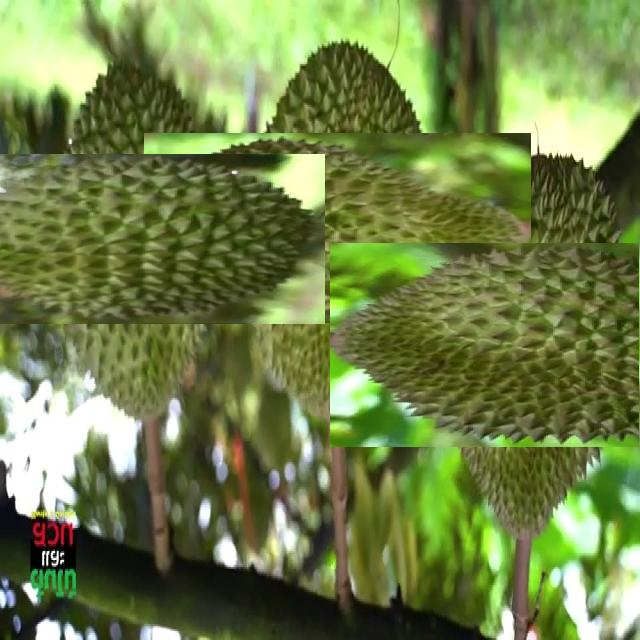durian: (193, 83, 482, 373), (378, 195, 640, 496), (0, 103, 273, 377)
